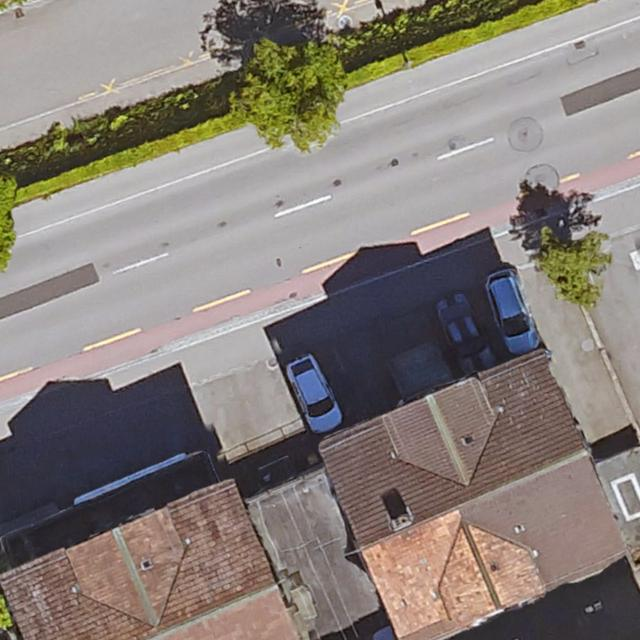tree: (233, 37, 347, 156), (534, 227, 613, 306), (0, 178, 23, 279)
